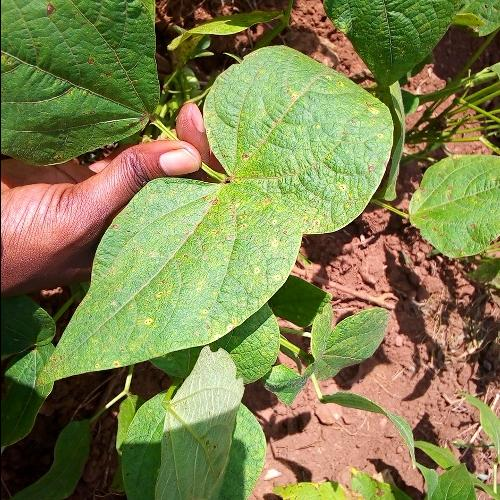hawar: (217, 23, 374, 204), (102, 170, 264, 344)
